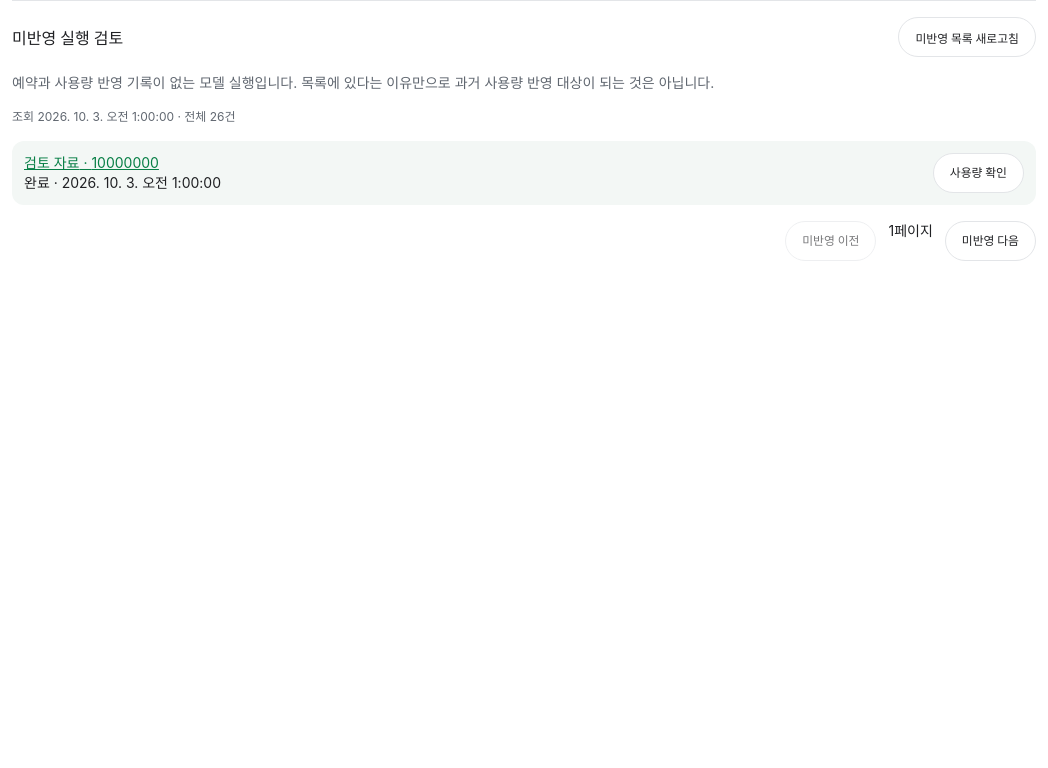
미반영 실행 사용량 확인 › 다음 페이지와 목록 새로고침은 이전 검증 결과를 지운다
Click the button "사용량 확인" at (978, 173), box [933,153,1024,193]
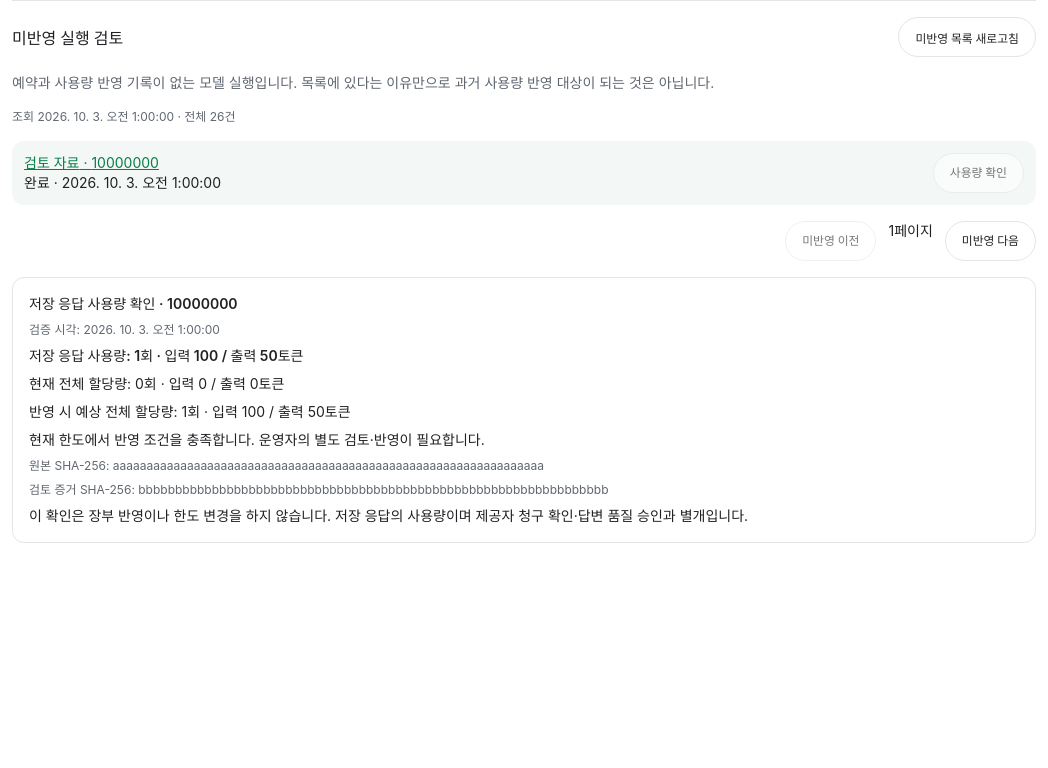
Now the text "저장 응답 사용량: 1회 · 입력 100 / 출력 50토큰" is shown, box [29,347,303,364]
Click the button "미반영 다음" at (990, 241), box [945,221,1036,261]
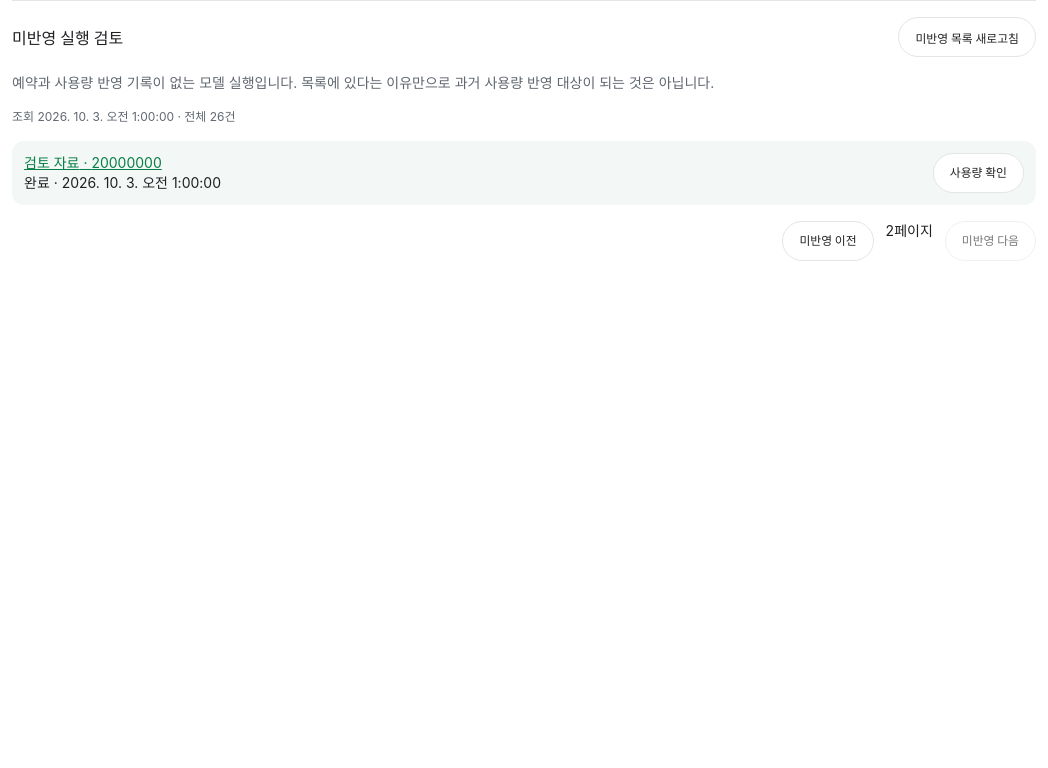
Click the button "사용량 확인" at (978, 173), box [933,153,1024,193]
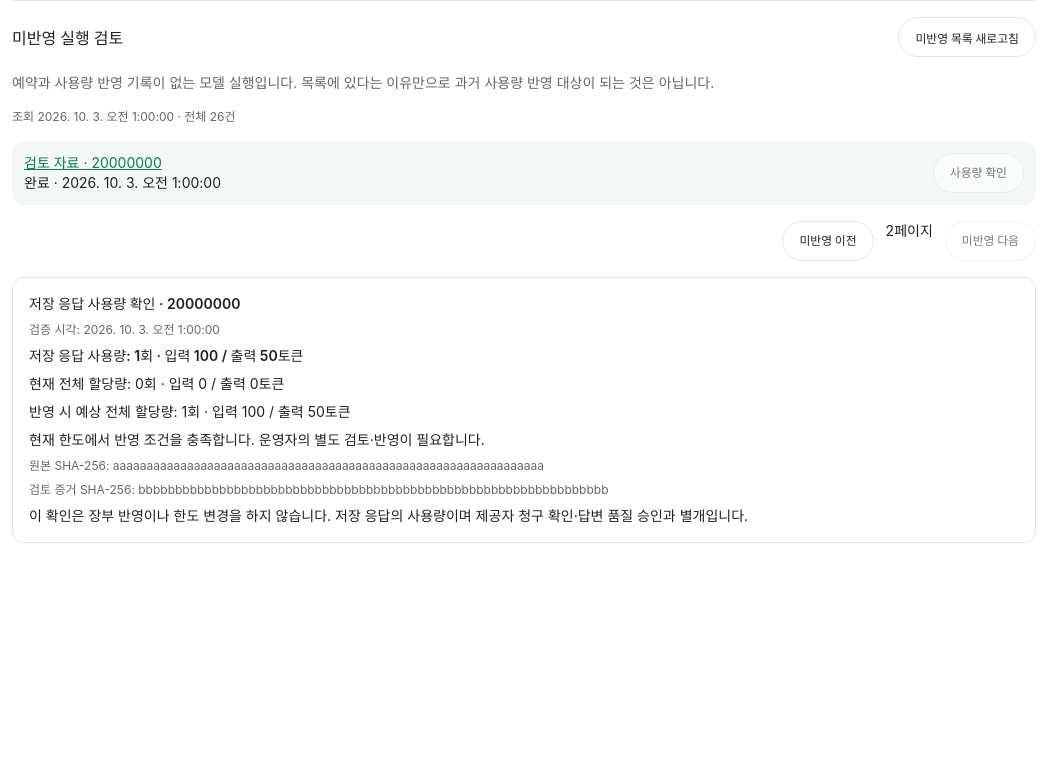
Now the text "저장 응답 사용량: 1회 · 입력 100 / 출력 50토큰" is shown, box [29,347,303,364]
Click the button "미반영 목록 새로고침" at (967, 37), box [898,17,1036,57]
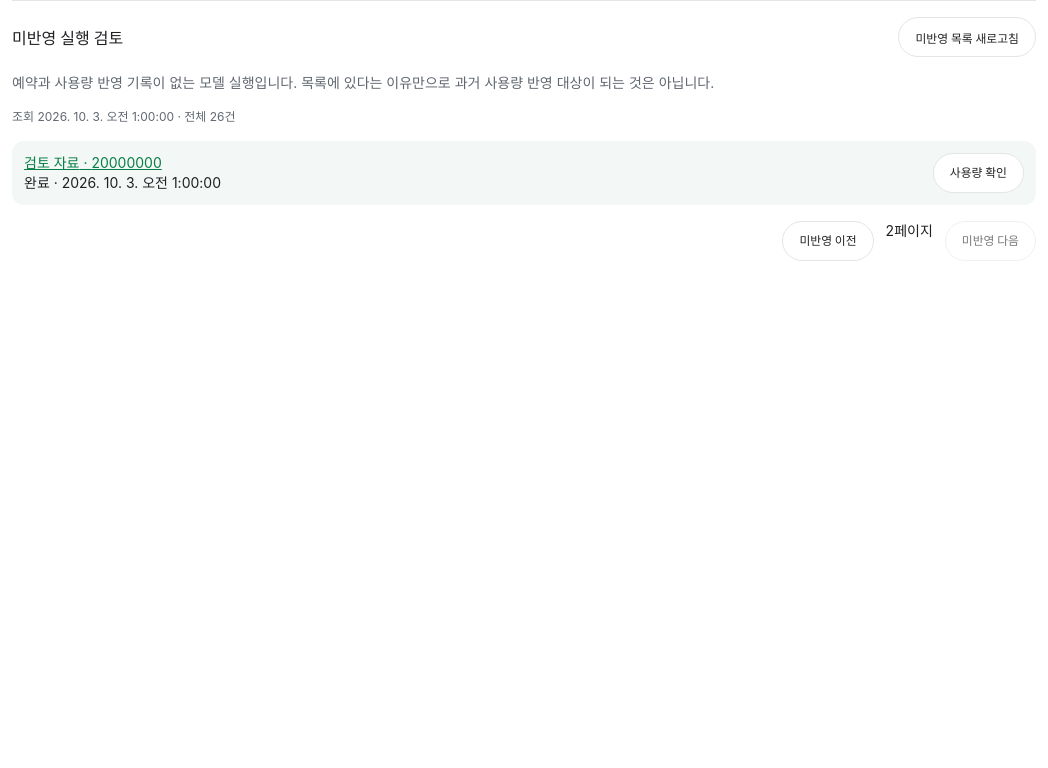
Now the text "저장 응답 사용량:" is gone
